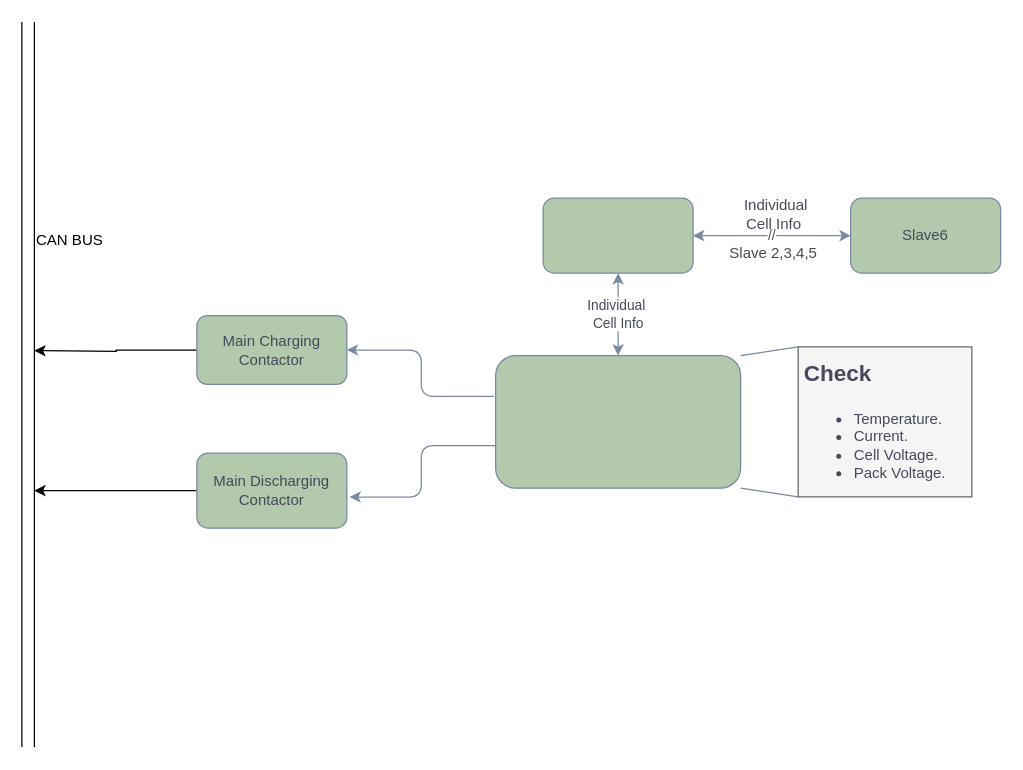
This 1023x770 diagram has some shape labels left out. The box of each missing label's shape, as (x1, y1, x2, y2) in pixels:
Master: (494, 354, 741, 488)
Slave 1: (542, 197, 693, 273)
